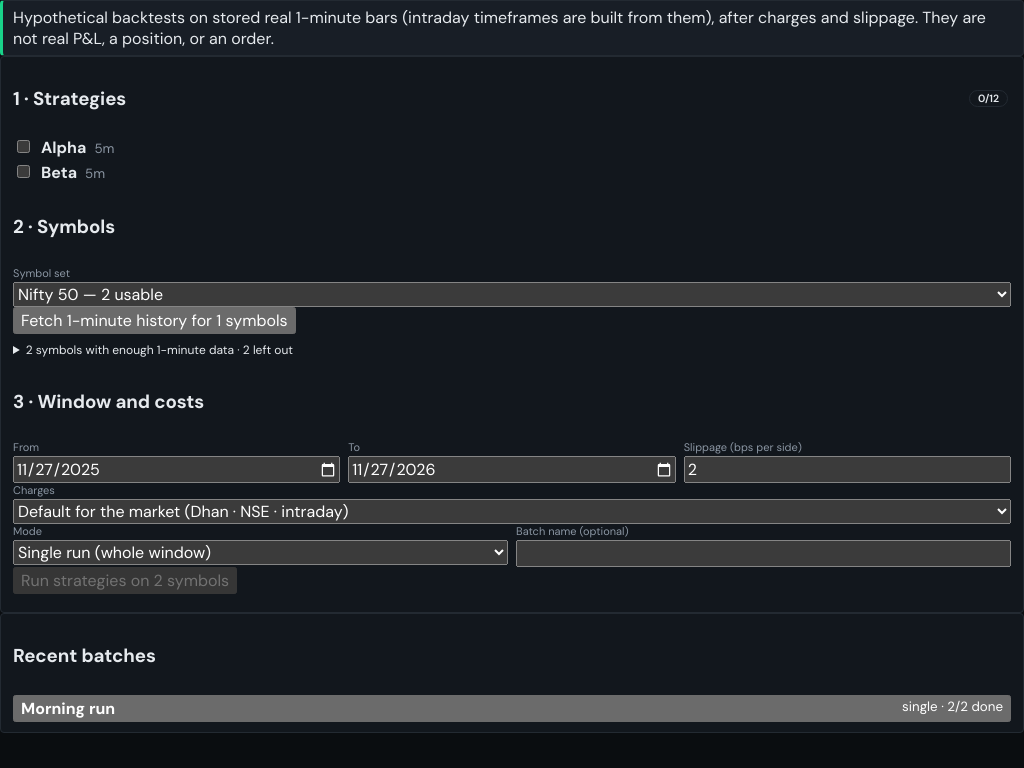
Test case: BacktestLab › will not run without a strategy and posts the chosen strategies, symbol set, window, slippage and mode
Expected: the button "Run strategies on 2 symbols" is disabled, left=13, top=567, right=237, bottom=594
Click the checkbox labelled "Alpha 5m".
click(24, 147)  # box left=17, top=140, right=30, bottom=153
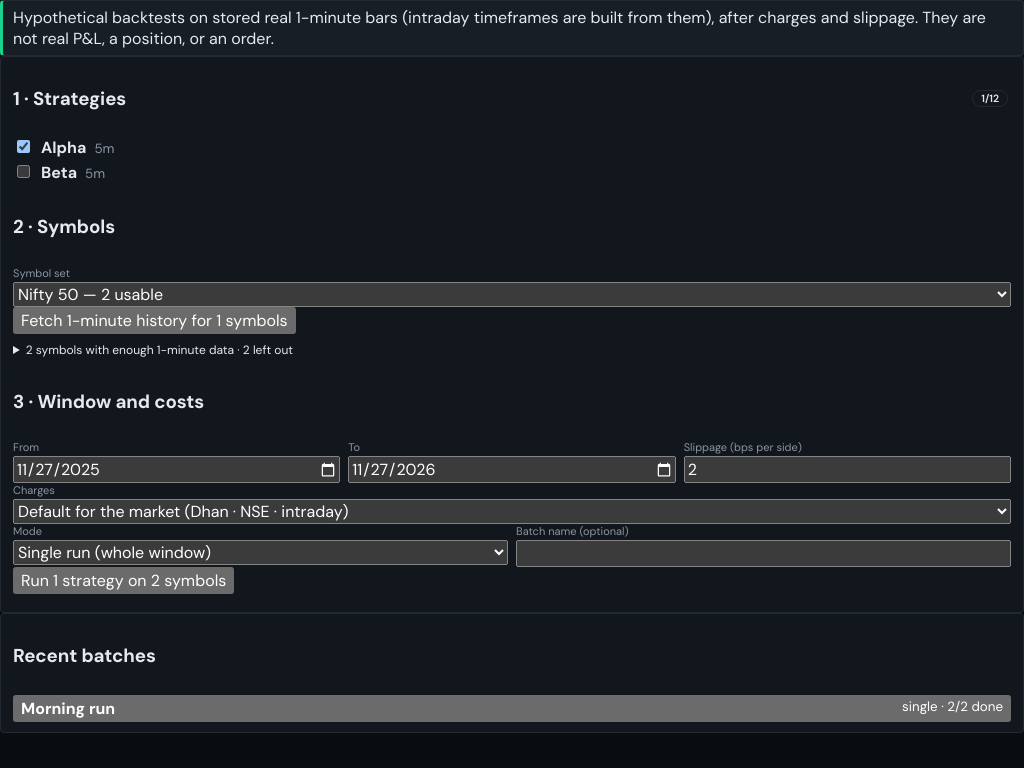
Select "Dhan · NSE · Intraday" in the dropdown named "Charge schedule" at (512, 512), box left=13, top=499, right=1011, bottom=524
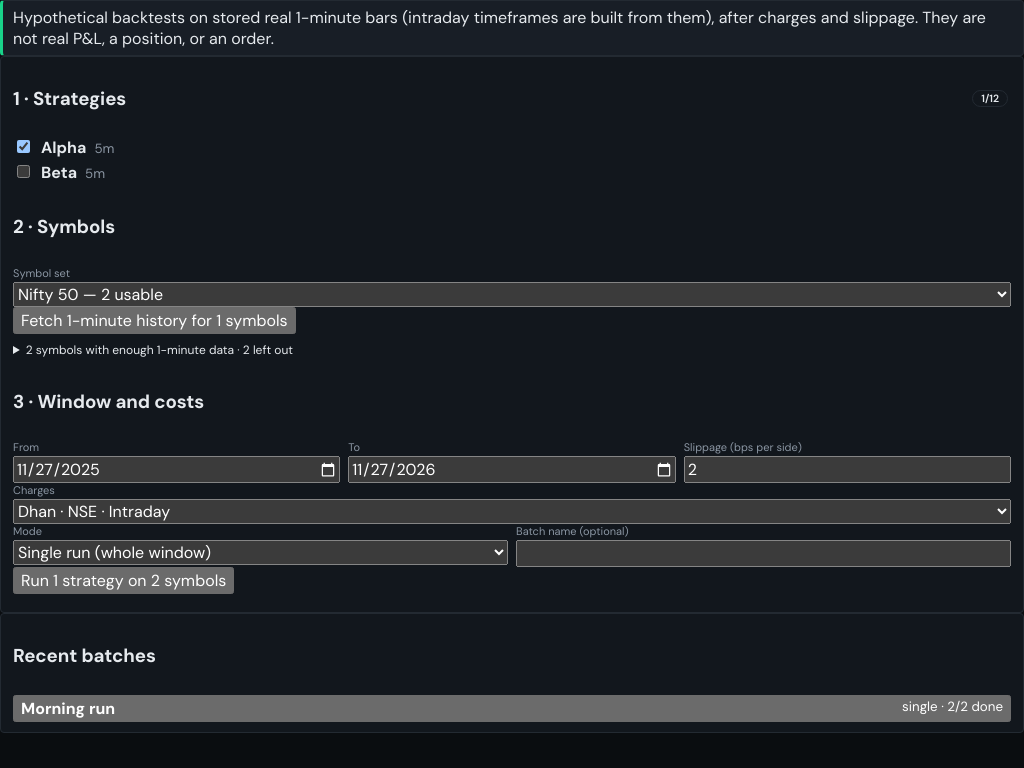
Select "In-sample vs out-of-sample" in the dropdown labelled "Mode" at (260, 553), box left=13, top=540, right=508, bottom=565
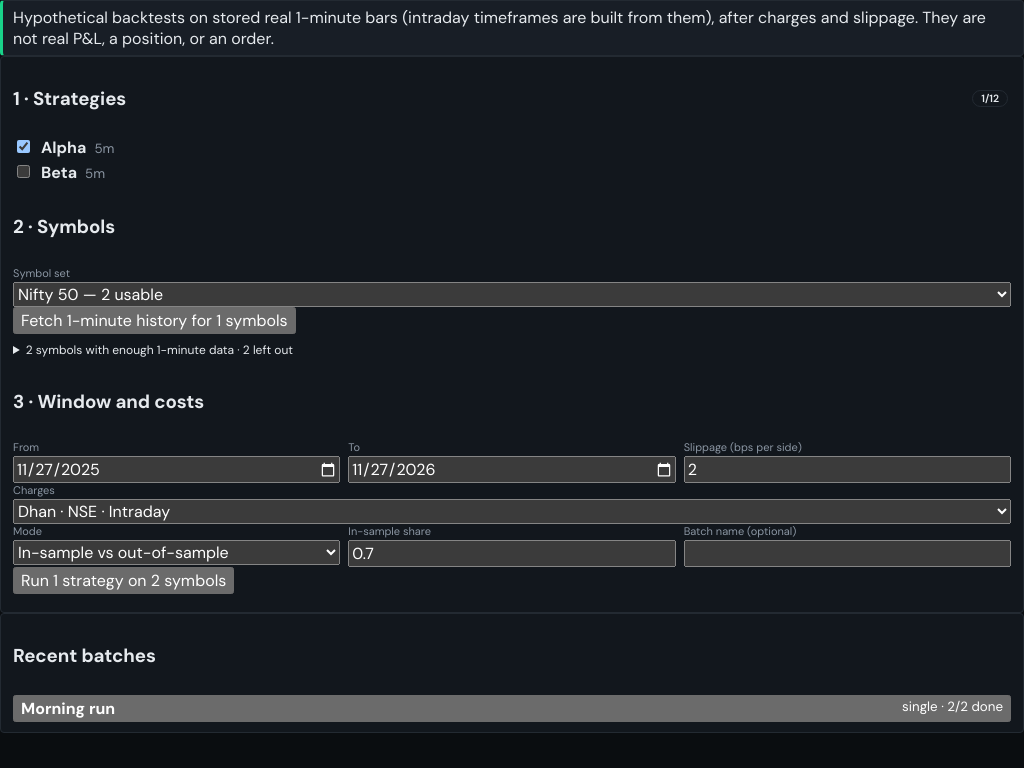
Click the button "Run 1 strategy on 2 symbols".
click(124, 581)  # box left=13, top=567, right=234, bottom=594
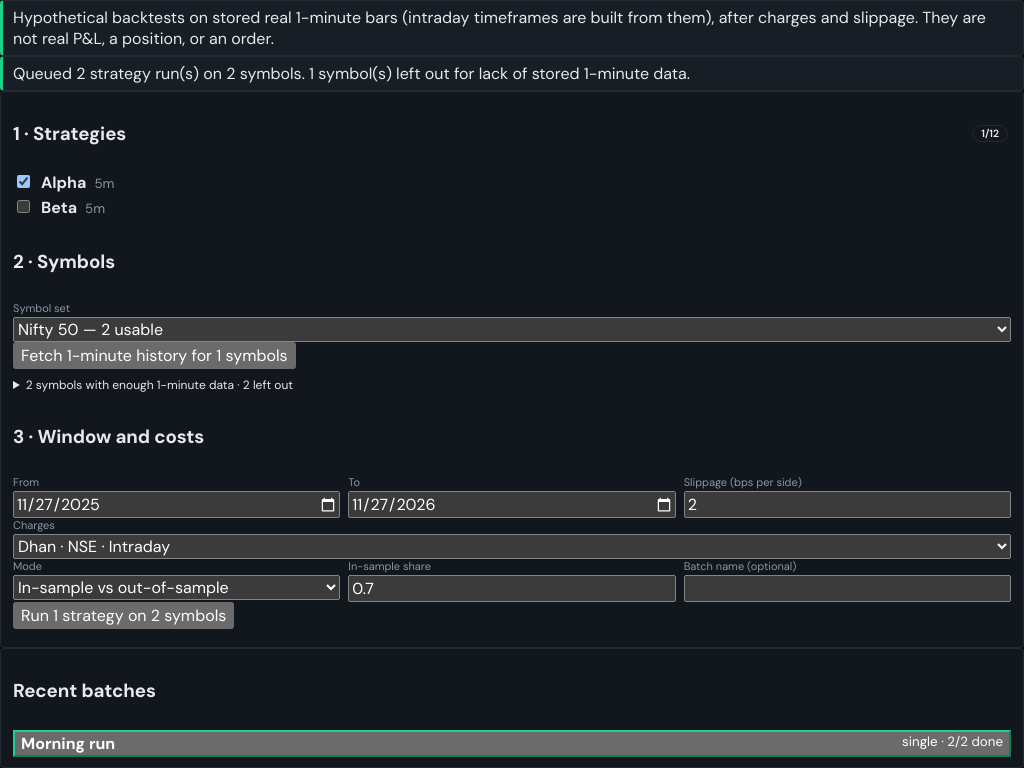
Expected: the text "1 symbol(s) left out for lack of stored 1-minute data" is shown, left=13, top=63, right=690, bottom=84
